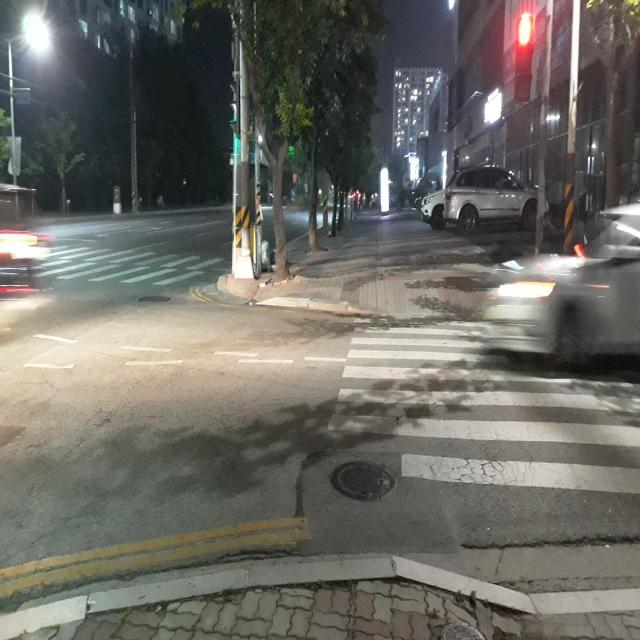빨간불: (514, 12, 534, 103)
횡단보도: (324, 314, 640, 497), (36, 244, 229, 294)
